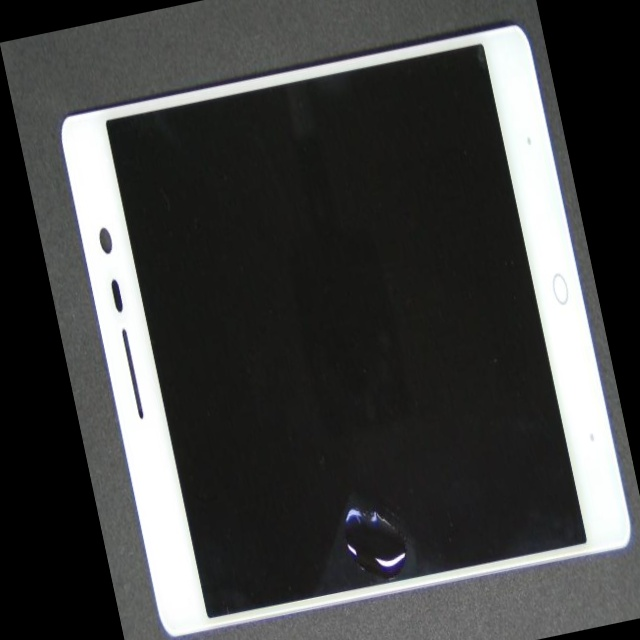oil: (219, 262, 579, 640)
